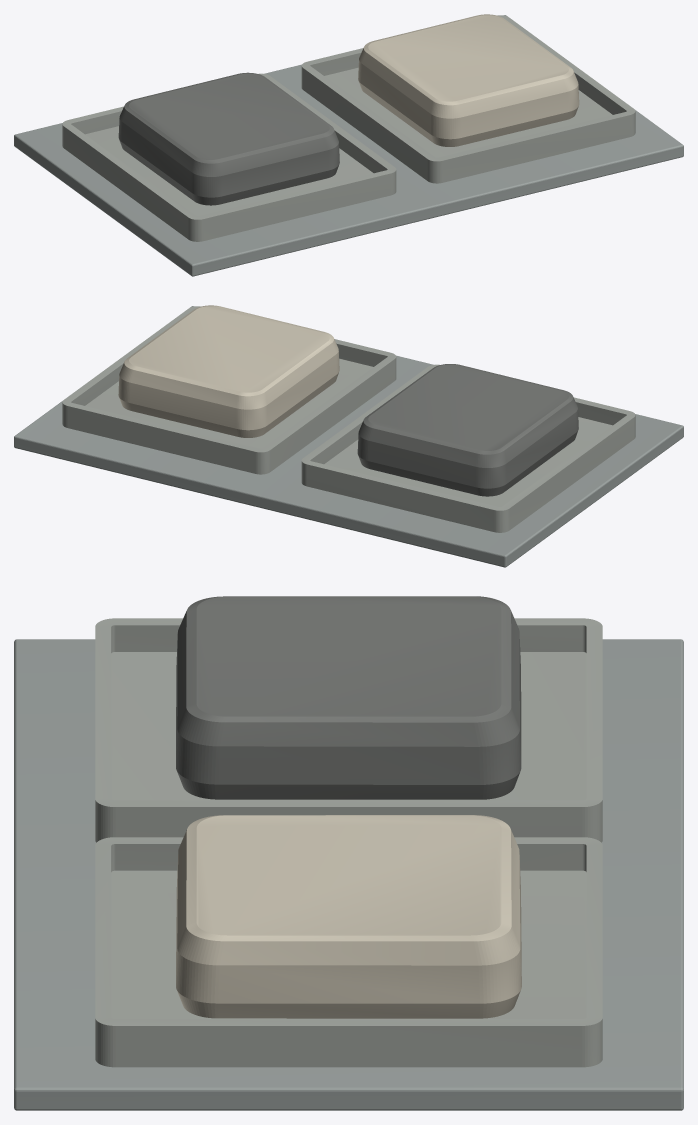
Rendered from galilee-stones.glb.
3 renders of one model, top to bottom at view 1: azimuth 30°, elevation 25°; view 2: azimuth 150°, elevation 25°; view 3: azimuth 270°, elevation 25°, orthographic. The views are drawn at different scales.
Visible parts, largest first — view 1: galilee-stones-galilee-modern-neutral-display, galilee-stones-galilee-original-dark-stone-comparison, galilee-stones-galilee-original-light-stone-comparison, galilee-stones-galilee-modern-stone-comparison-trays.001, galilee-stones-galilee-modern-stone-comparison-trays; view 2: galilee-stones-galilee-modern-neutral-display, galilee-stones-galilee-original-dark-stone-comparison, galilee-stones-galilee-original-light-stone-comparison, galilee-stones-galilee-modern-stone-comparison-trays, galilee-stones-galilee-modern-stone-comparison-trays.001; view 3: galilee-stones-galilee-modern-neutral-display, galilee-stones-galilee-original-dark-stone-comparison, galilee-stones-galilee-original-light-stone-comparison, galilee-stones-galilee-modern-stone-comparison-trays.001, galilee-stones-galilee-modern-stone-comparison-trays.
Part boxes in pixels (<box>): galilee-stones-galilee-modern-neutral-display: <box>14,15,683,276</box>; galilee-stones-galilee-original-dark-stone-comparison: <box>118,72,339,205</box>; galilee-stones-galilee-original-light-stone-comparison: <box>358,14,579,146</box>; galilee-stones-galilee-modern-stone-comparison-trays.001: <box>301,15,635,183</box>; galilee-stones-galilee-modern-stone-comparison-trays: <box>62,73,396,241</box>; galilee-stones-galilee-modern-neutral-display: <box>14,306,683,567</box>; galilee-stones-galilee-original-dark-stone-comparison: <box>357,364,578,496</box>; galilee-stones-galilee-original-light-stone-comparison: <box>118,305,339,437</box>; galilee-stones-galilee-modern-stone-comparison-trays: <box>301,364,635,532</box>; galilee-stones-galilee-modern-stone-comparison-trays.001: <box>62,306,396,474</box>; galilee-stones-galilee-modern-neutral-display: <box>14,639,683,1110</box>; galilee-stones-galilee-original-dark-stone-comparison: <box>176,596,521,799</box>; galilee-stones-galilee-original-light-stone-comparison: <box>176,815,521,1018</box>; galilee-stones-galilee-modern-stone-comparison-trays.001: <box>95,837,602,1067</box>; galilee-stones-galilee-modern-stone-comparison-trays: <box>95,618,602,842</box>.
Size of the model in its own units: 1.05 by 0.131 by 0.66.
